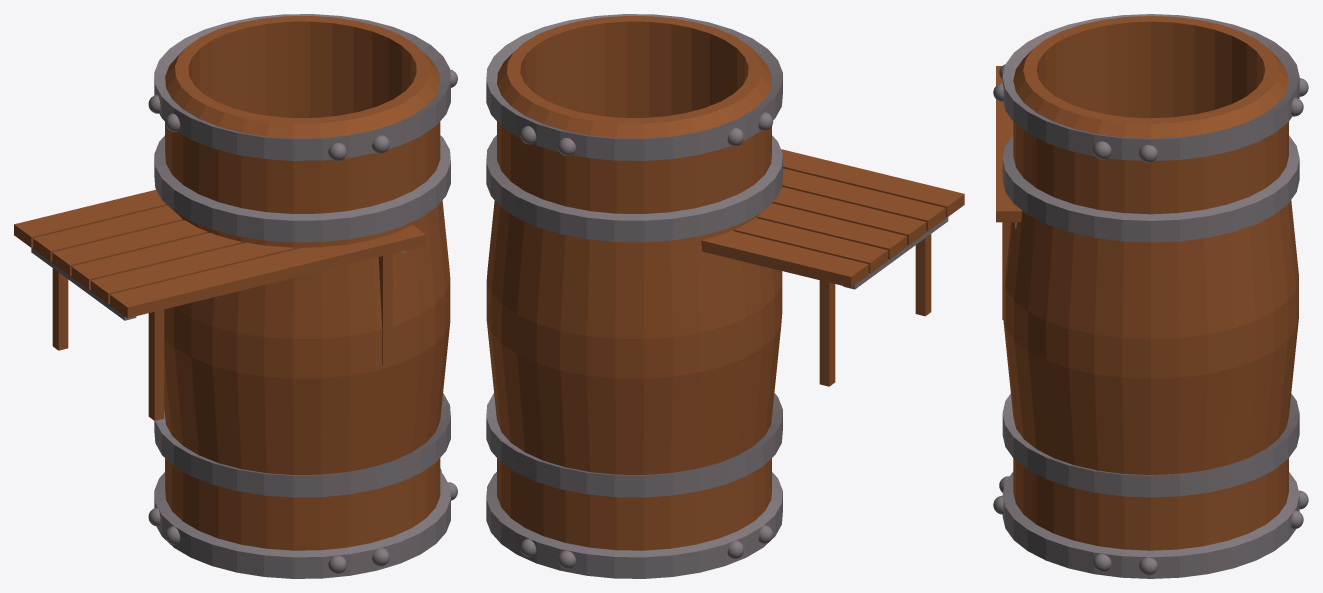
The model's file is Chair.fbx.
The picture shows the model from 3 angles, left to right: view 1: azimuth 30°, elevation 25°; view 2: azimuth 150°, elevation 25°; view 3: azimuth 270°, elevation 25°; orthographic projection.
Parts seen in each view (by area): view 1: Barrel, Table; view 2: Barrel, Table; view 3: Barrel, Table.
Part boxes in pixels (box(x1,y1,x2,y2)): Barrel: box(148, 14, 457, 578); Table: box(14, 189, 425, 420); Barrel: box(486, 14, 782, 578); Table: box(701, 149, 964, 386); Barrel: box(993, 14, 1308, 578); Table: box(996, 66, 1022, 319).
Size of the model in its own units: 326 by 363 by 229.
